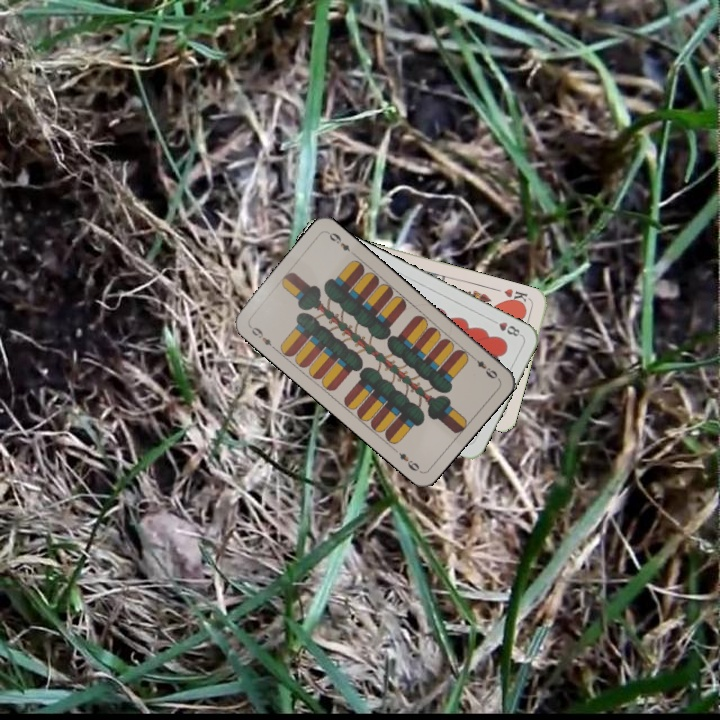E9: (467, 352, 502, 382), (245, 322, 278, 352)
H8: (486, 315, 524, 339)
HK: (500, 285, 533, 308)
